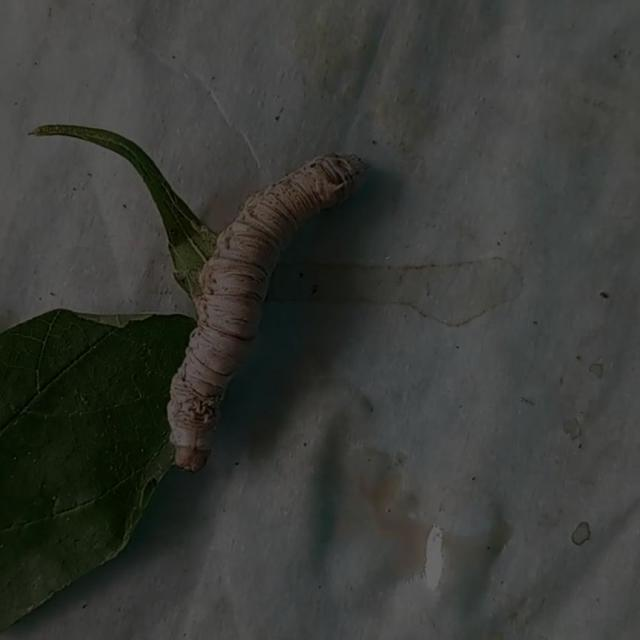Grasserie: (152, 132, 374, 484)
